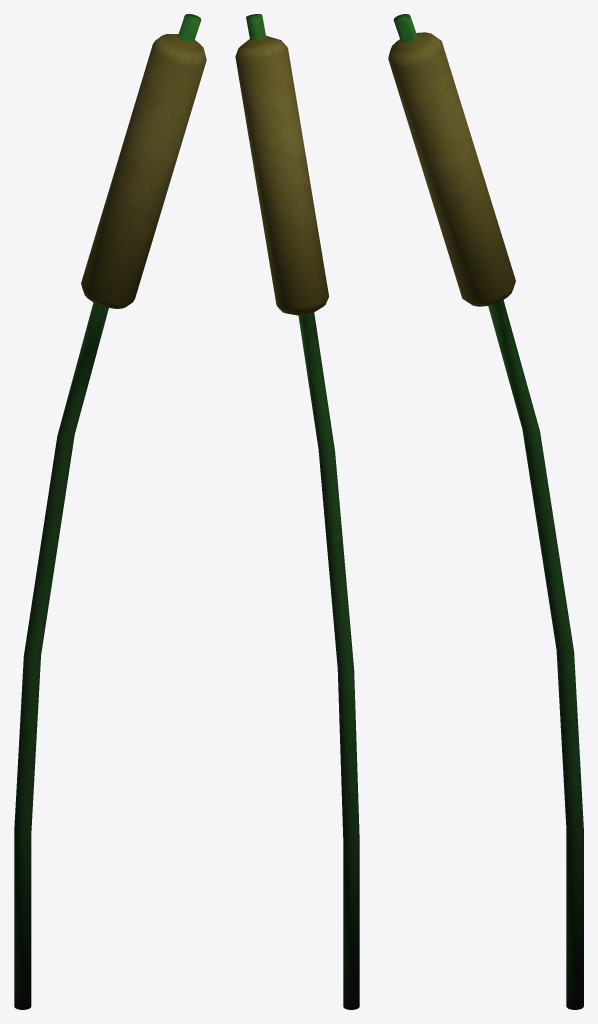
Rendered from Reed1.fbx.
3 views of the same model, side by side, from view 1: azimuth 90°, elevation 25°; view 2: azimuth 210°, elevation 25°; view 3: azimuth 270°, elevation 25° (orthographic). The views are drawn at different scales.
Visible parts, largest first — view 1: Reed1.001; view 2: Reed1.001; view 3: Reed1.001.
Part boxes in pixels (<box>): Reed1.001: <box>14,14,206,1009</box>; Reed1.001: <box>235,14,359,1009</box>; Reed1.001: <box>388,14,583,1009</box>.
Size of the model in its own units: 13.3 by 224 by 39.88.
